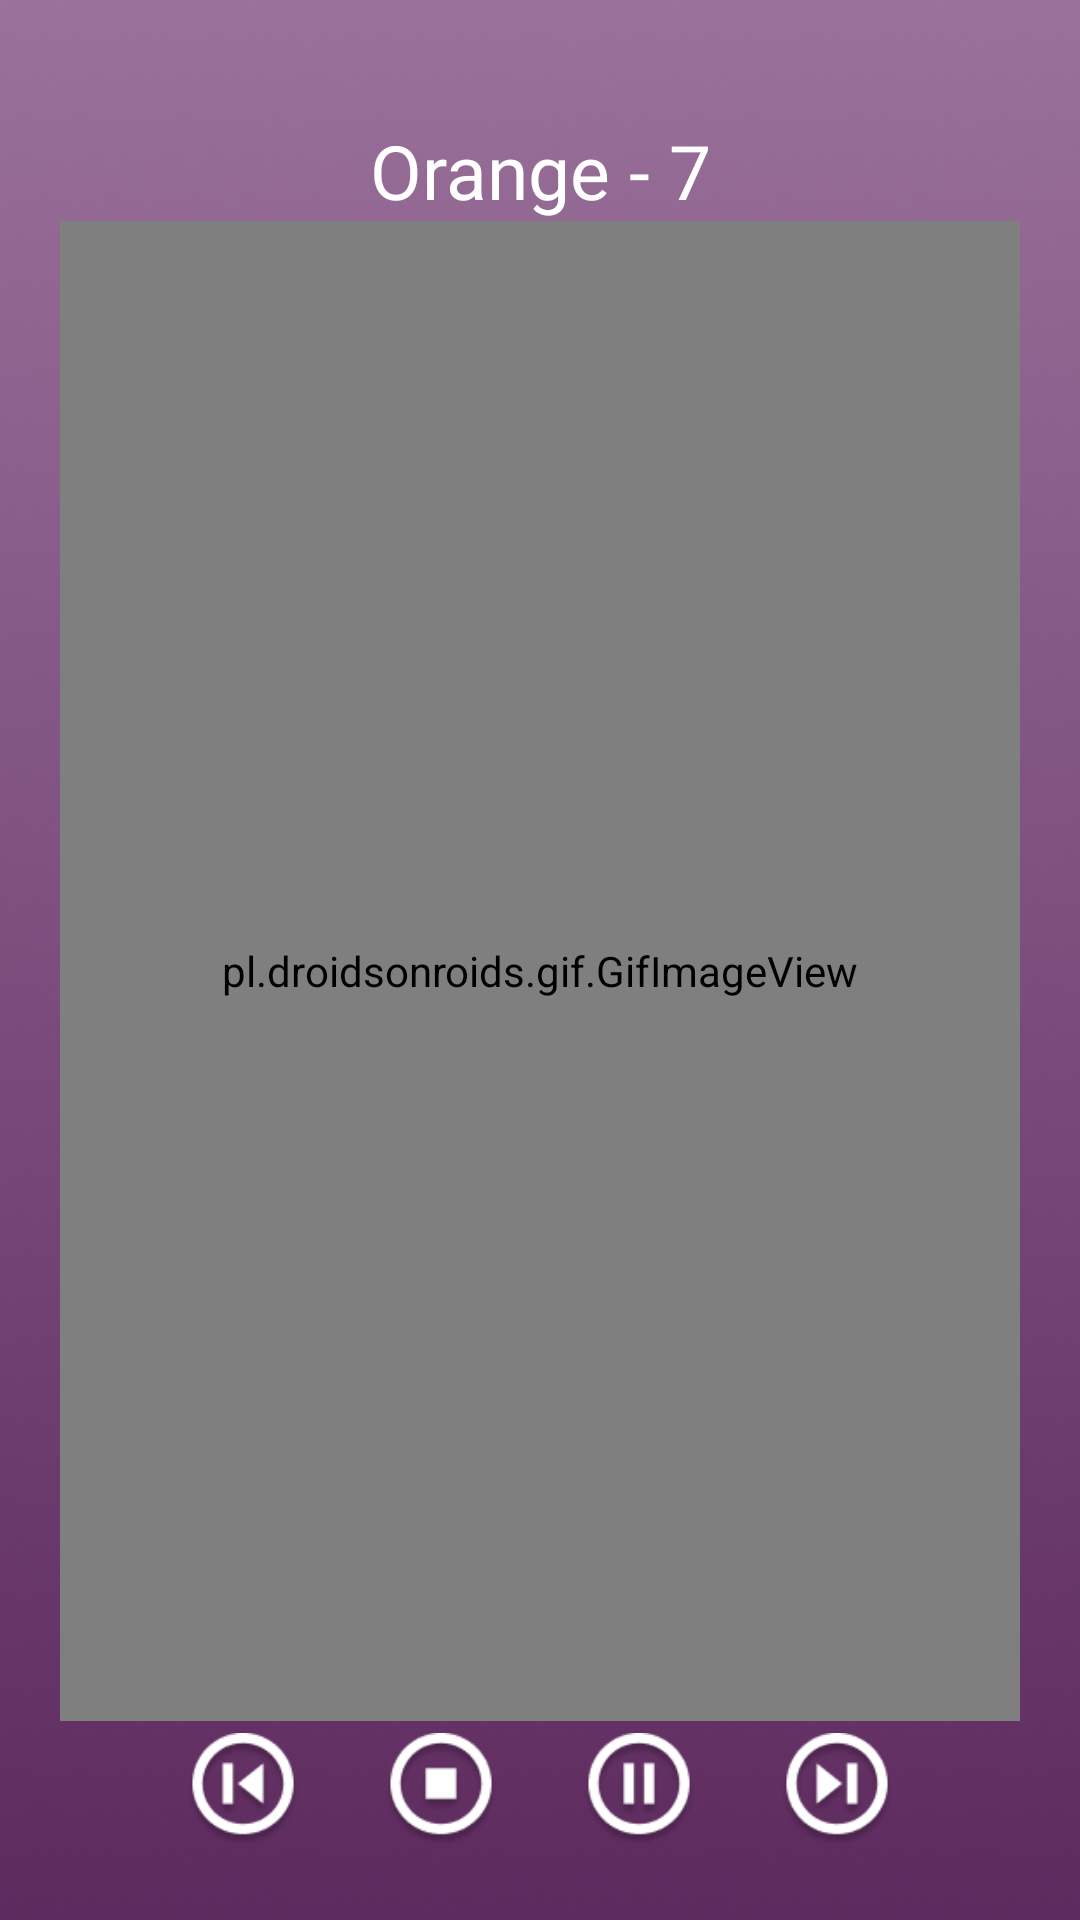

Named icons in this screenshot (1080×1920) and their centers, point (x, y):
back: point (243, 1784)
next: point (837, 1784)
pause: point (639, 1784)
stop: point (441, 1784)
